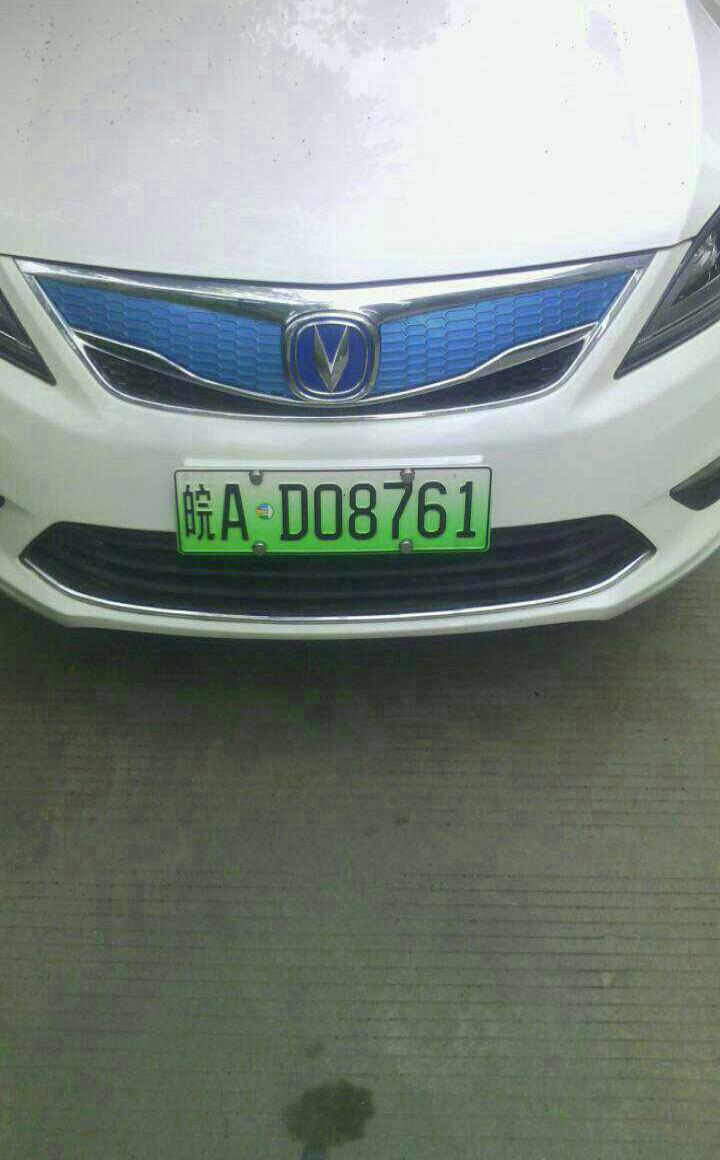car: (168, 465, 503, 557)
